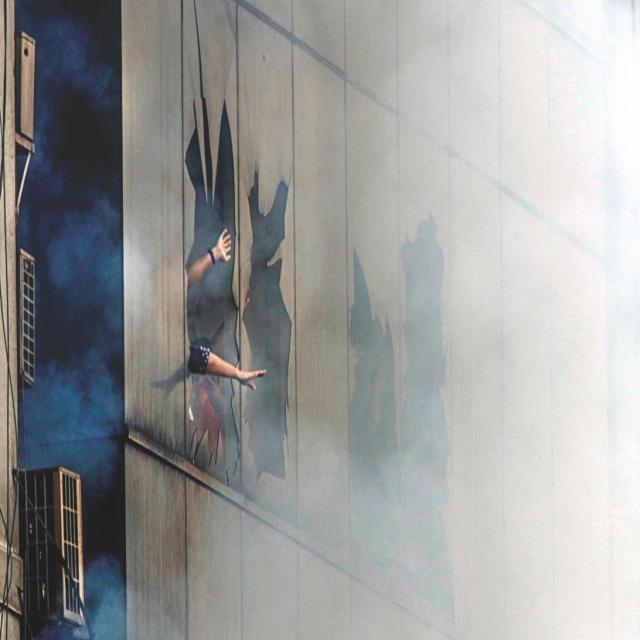Smoke: (404, 29, 638, 618)
